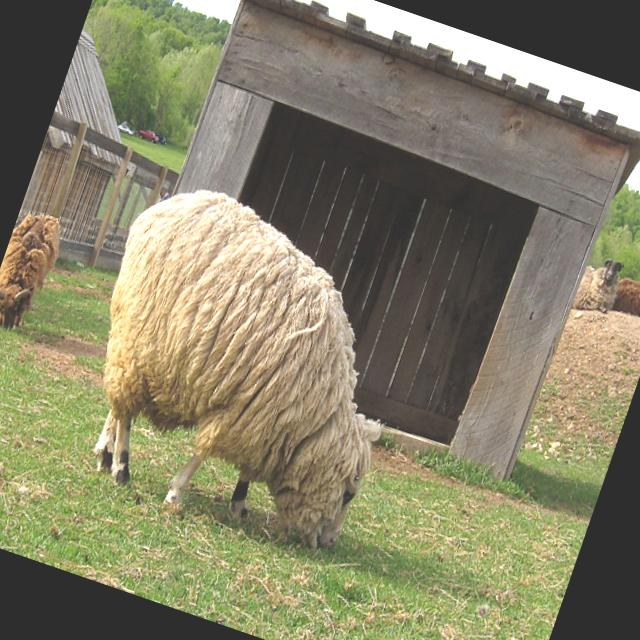Vehicle: (136, 128, 159, 145), (116, 122, 136, 136)
